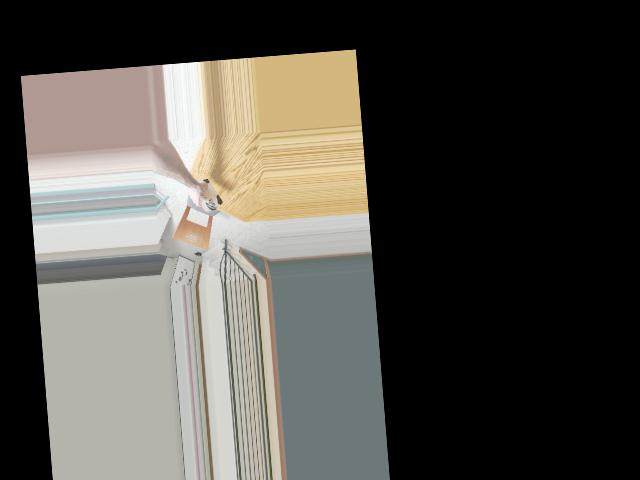cheese: (187, 175, 223, 213)
